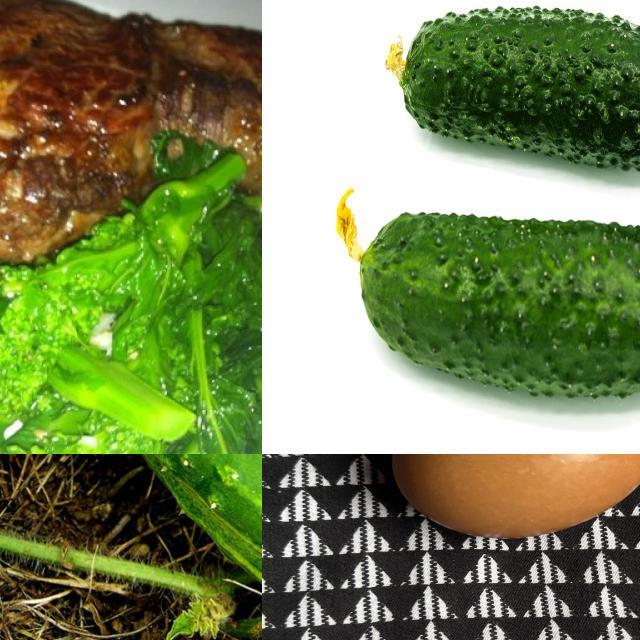cucumber: (354, 209, 640, 411), (1, 455, 263, 638), (404, 1, 640, 177)
egg: (387, 455, 640, 540)
